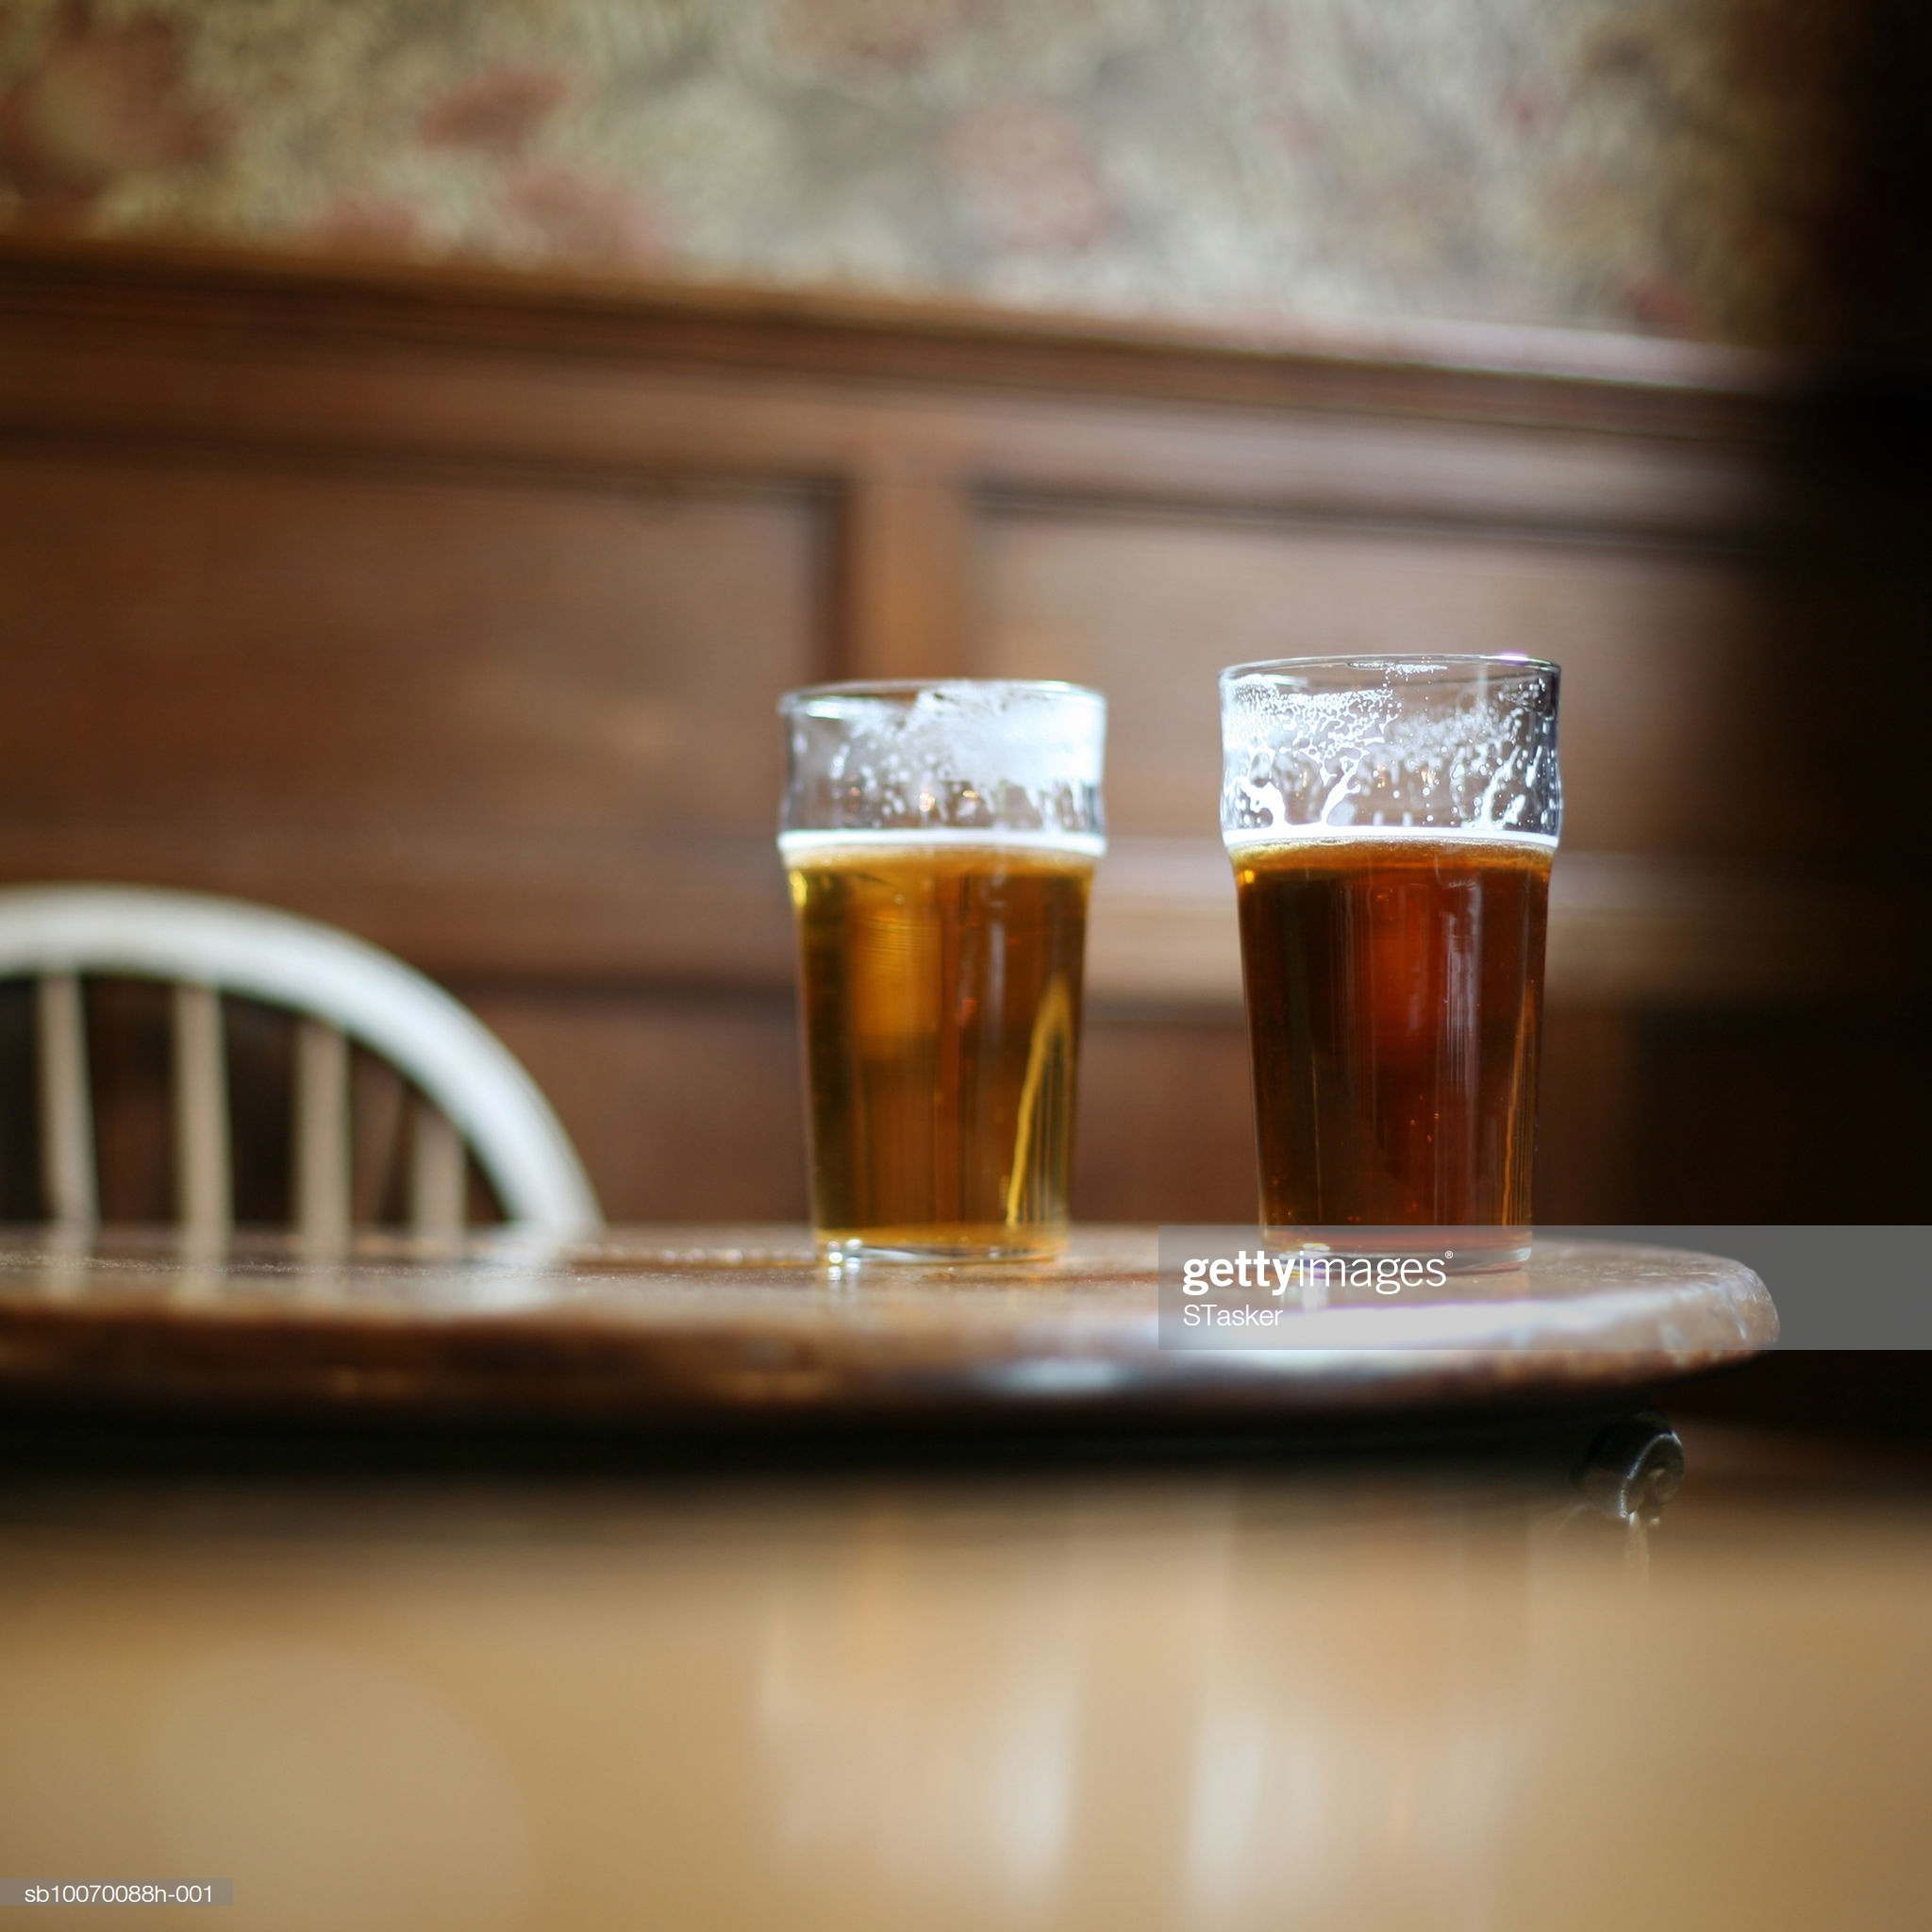glassBeer: (1224, 632, 1598, 1230), (819, 685, 1118, 1246)
